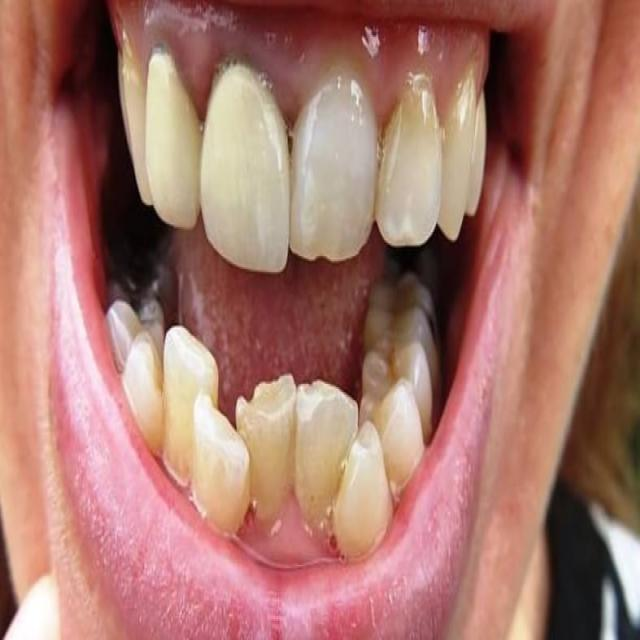tooth: (183, 54, 294, 266), (295, 83, 381, 266), (200, 390, 249, 560), (238, 384, 302, 510), (380, 83, 436, 224), (142, 98, 200, 194), (124, 339, 190, 421), (306, 376, 341, 522), (436, 88, 472, 224), (363, 394, 432, 456), (116, 43, 142, 194), (176, 325, 210, 432), (351, 426, 383, 514), (372, 342, 420, 392), (472, 88, 492, 189), (112, 299, 143, 341), (398, 244, 432, 274)
